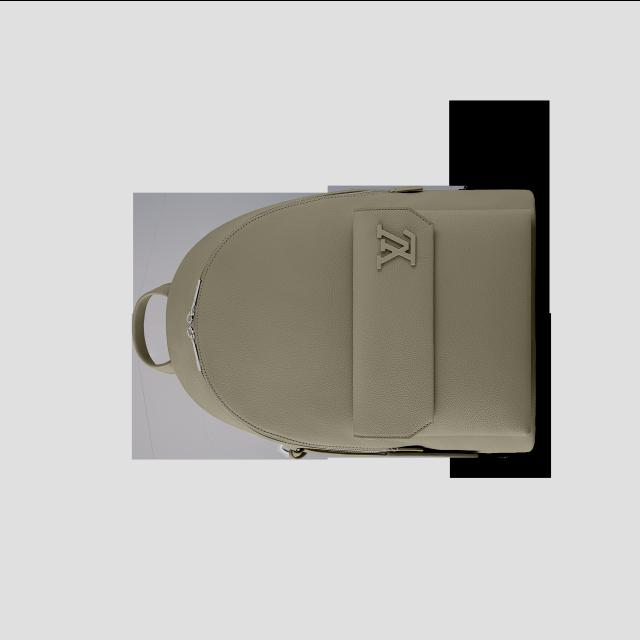backpack: (132, 186, 538, 460)
